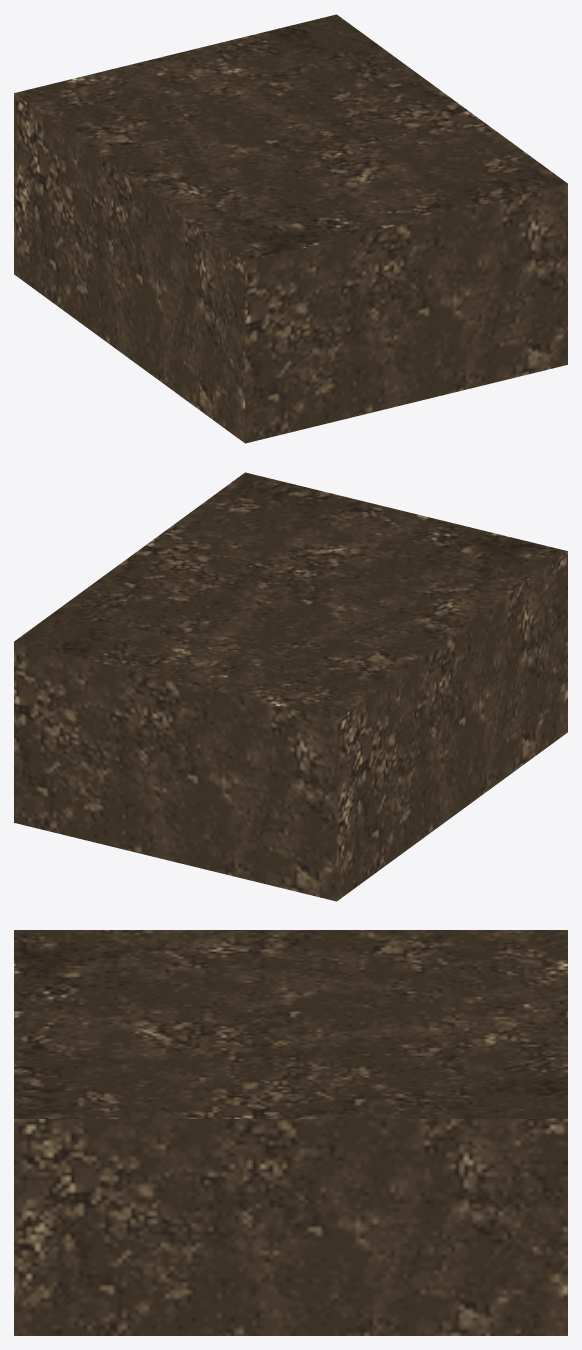
The picture shows the model from 3 angles, top to bottom: view 1: azimuth 30°, elevation 25°; view 2: azimuth 150°, elevation 25°; view 3: azimuth 270°, elevation 25°; orthographic projection. The views are drawn at different scales.
Bounding box in the file's own units: 11458 × 6144 × 14215.
Materials: 20 (20 with a texture image).
